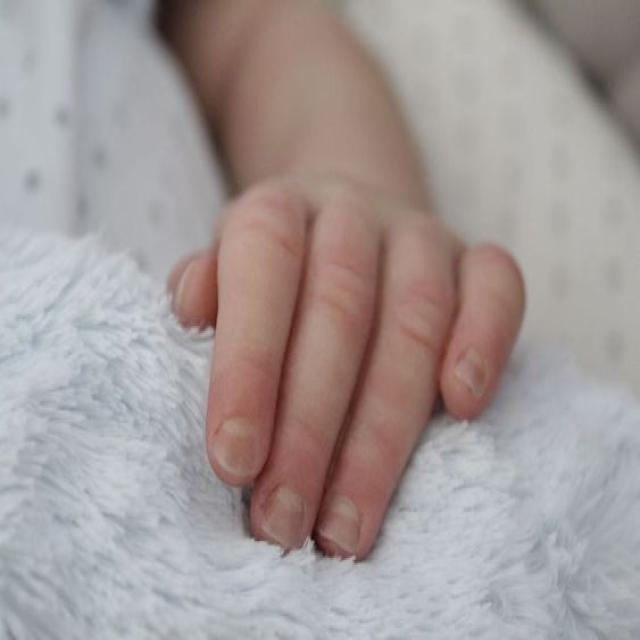Fingernail: (214, 420, 260, 480), (262, 488, 305, 549), (320, 497, 360, 553), (456, 350, 486, 397)
